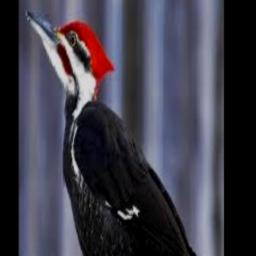Woodpecker: (25, 9, 221, 256)
